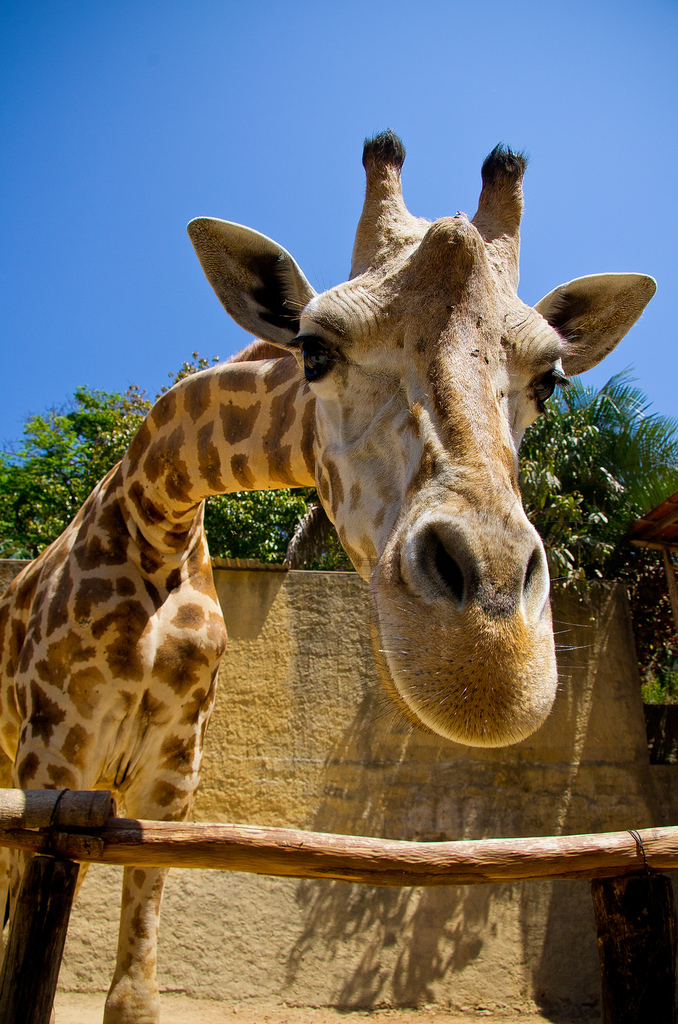giraffe: (79, 136, 637, 775)
